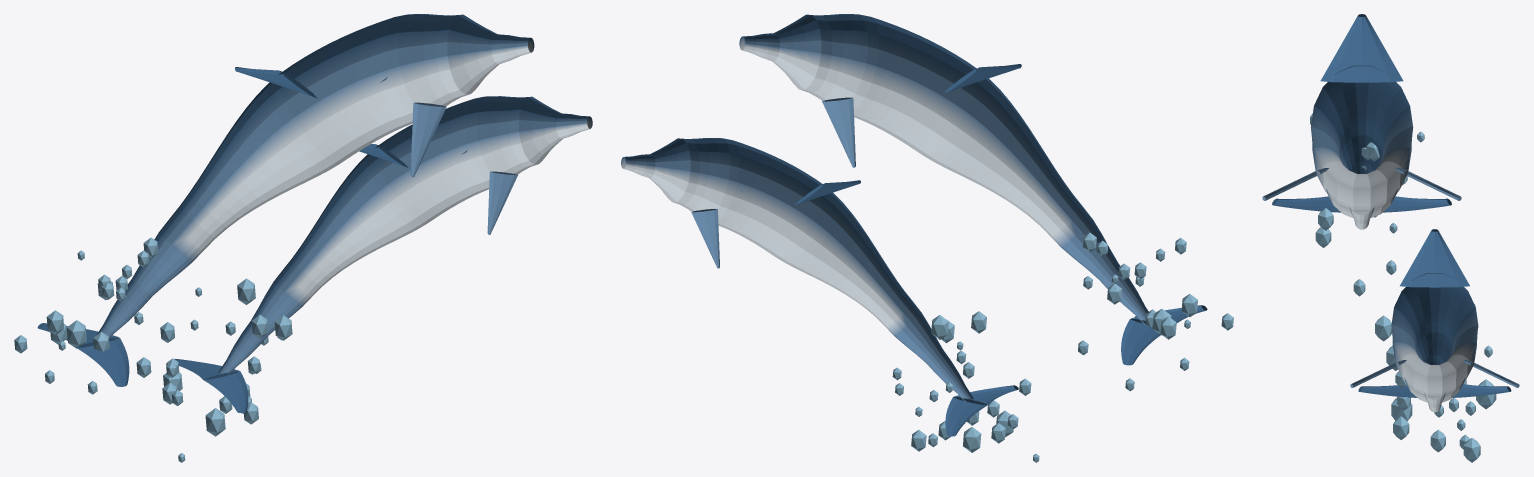
Rendered from dolphins.glb.
3 renders of one model, left to right at view 1: azimuth 30°, elevation 25°; view 2: azimuth 150°, elevation 25°; view 3: azimuth 270°, elevation 25°, orthographic. The views are drawn at different scales.
Parts seen in each view (by area): view 1: Dolphins; view 2: Dolphins; view 3: Dolphins.
Part boxes in pixels (x1,y1,x2,y2): Dolphins: (14,14,592,462); Dolphins: (621,14,1233,462); Dolphins: (1262,14,1519,462).
Bounding box in the file's own units: 3.67 × 2.34 × 1.24.
